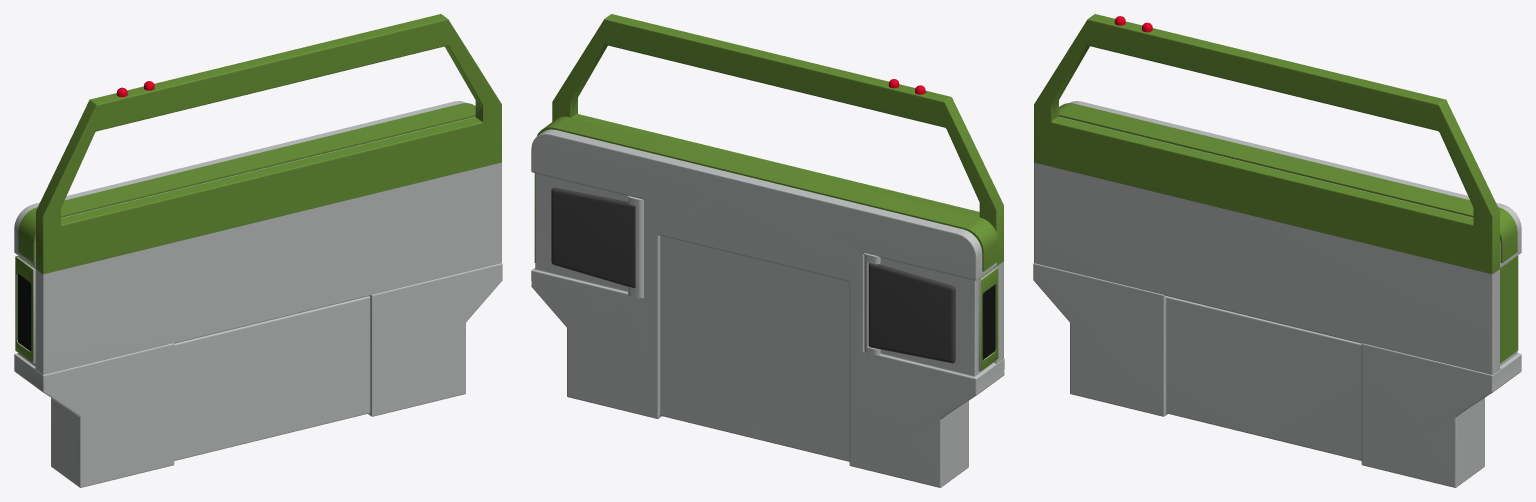
Rendered from 싱글개찰구.fbx.
3 renders of one model, left to right at view 1: azimuth 30°, elevation 25°; view 2: azimuth 150°, elevation 25°; view 3: azimuth 330°, elevation 25°, orthographic. The views are drawn at different scales.
Visible parts, largest first — view 1: 개찰구, 디스플레이 패널; view 2: 개찰구, 개패구_F, 개패구_B, 디스플레이 패널; view 3: 개찰구.
Part boxes in pixels (<box>): 개찰구: <box>14,14,502,487</box>; 디스플레이 패널: <box>15,256,35,363</box>; 개찰구: <box>531,14,1004,487</box>; 개패구_F: <box>868,263,955,363</box>; 개패구_B: <box>551,187,635,288</box>; 디스플레이 패널: <box>978,267,998,371</box>; 개찰구: <box>1033,14,1521,487</box>.
Size of the model in its own units: 181 by 144 by 21.07.
